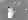person: (10, 6, 17, 18)
